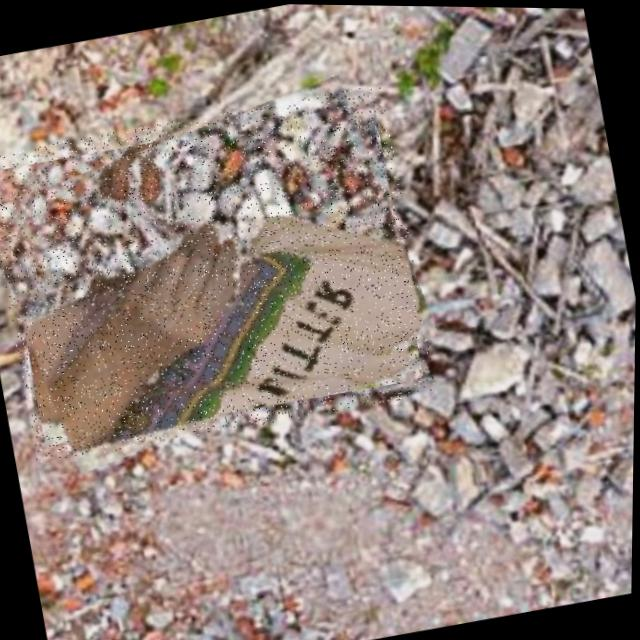Person in Rubble: (0, 78, 441, 469)
